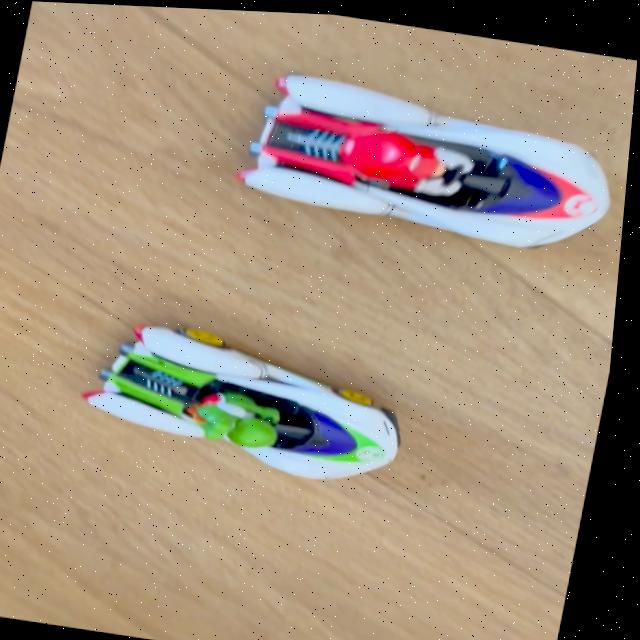mario: (203, 62, 636, 269)
yoshi: (60, 310, 445, 506)
